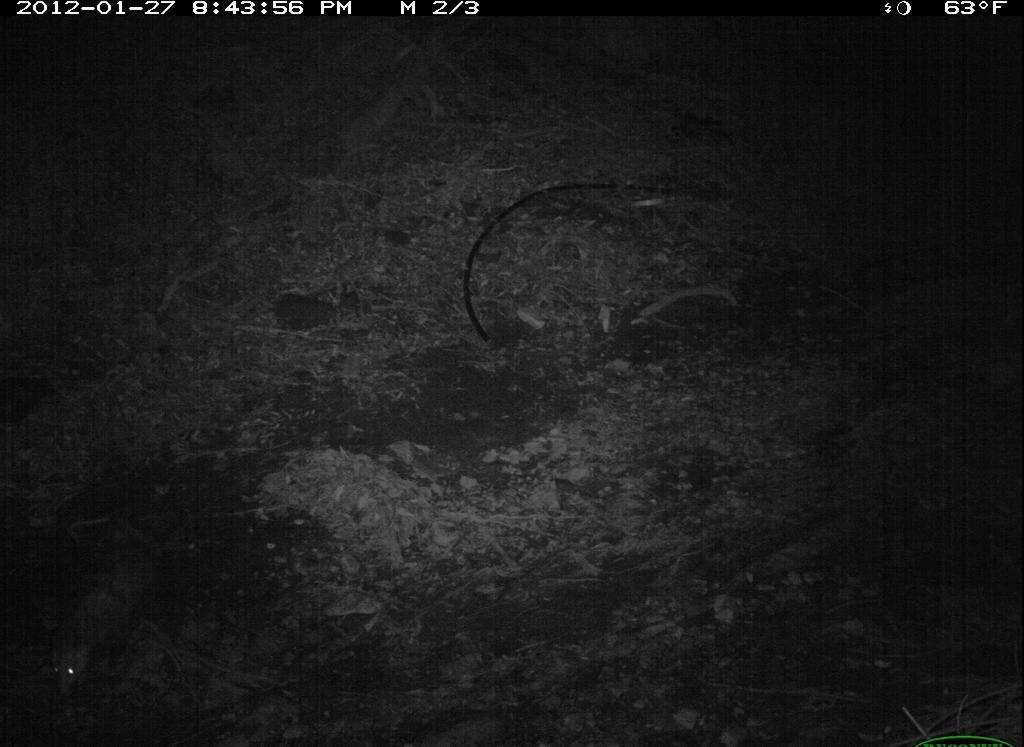opossum: (44, 545, 176, 696)
